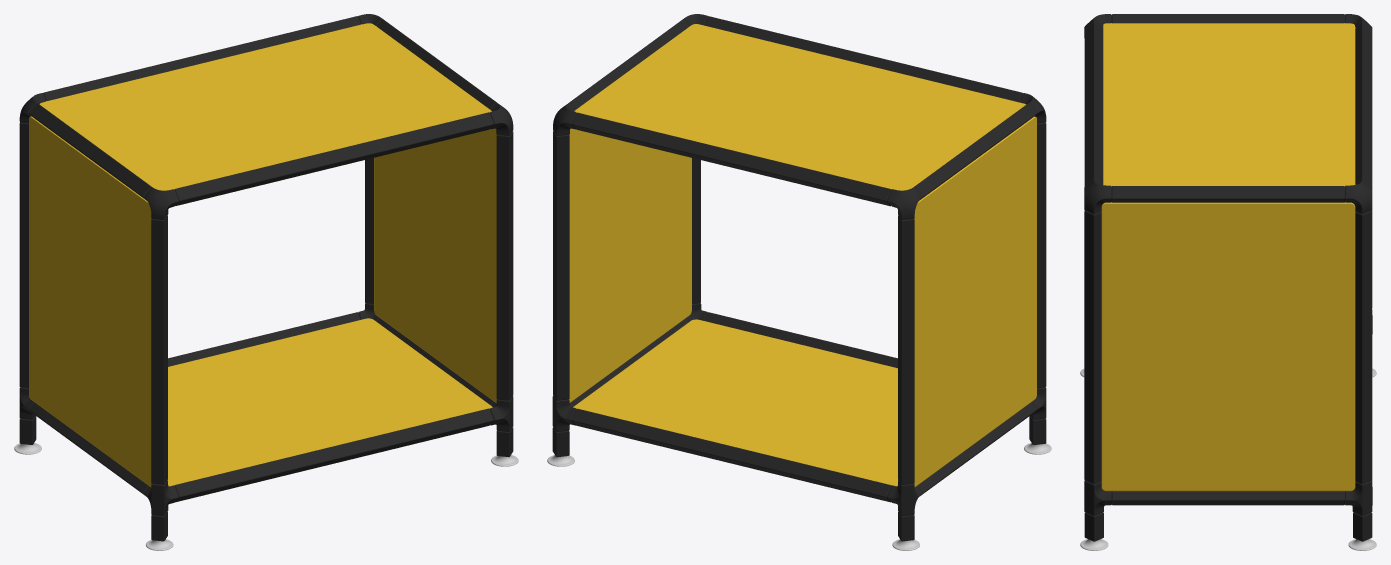
3 renders of one model, left to right at view 1: azimuth 30°, elevation 25°; view 2: azimuth 150°, elevation 25°; view 3: azimuth 270°, elevation 25°, orthographic.
Visible parts, largest first — view 1: 523x329x420; view 2: 523x329x420; view 3: 523x329x420.
Boxes of the visible parts, left/top/right/bottom form: 523x329x420: left=14, top=14, right=518, bottom=550; 523x329x420: left=547, top=14, right=1051, bottom=550; 523x329x420: left=1080, top=14, right=1376, bottom=550.
Size of the model in its own units: 0.6129 by 0.5593 by 0.4182.
